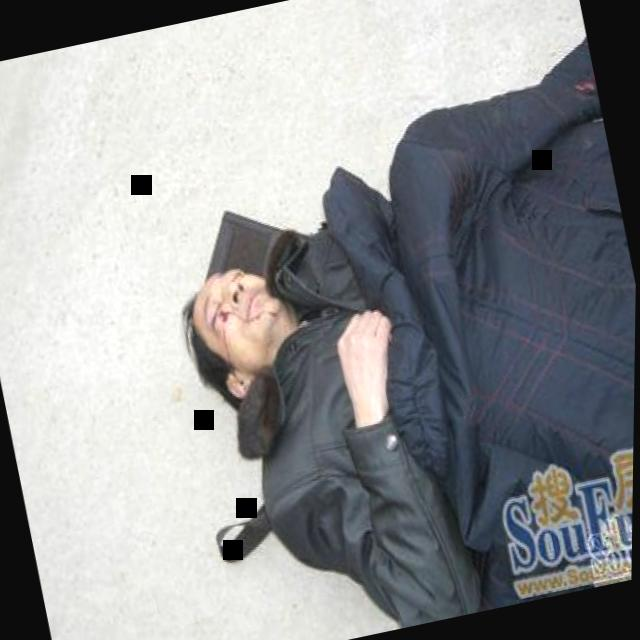Fall-Detected: (126, 40, 640, 640)
